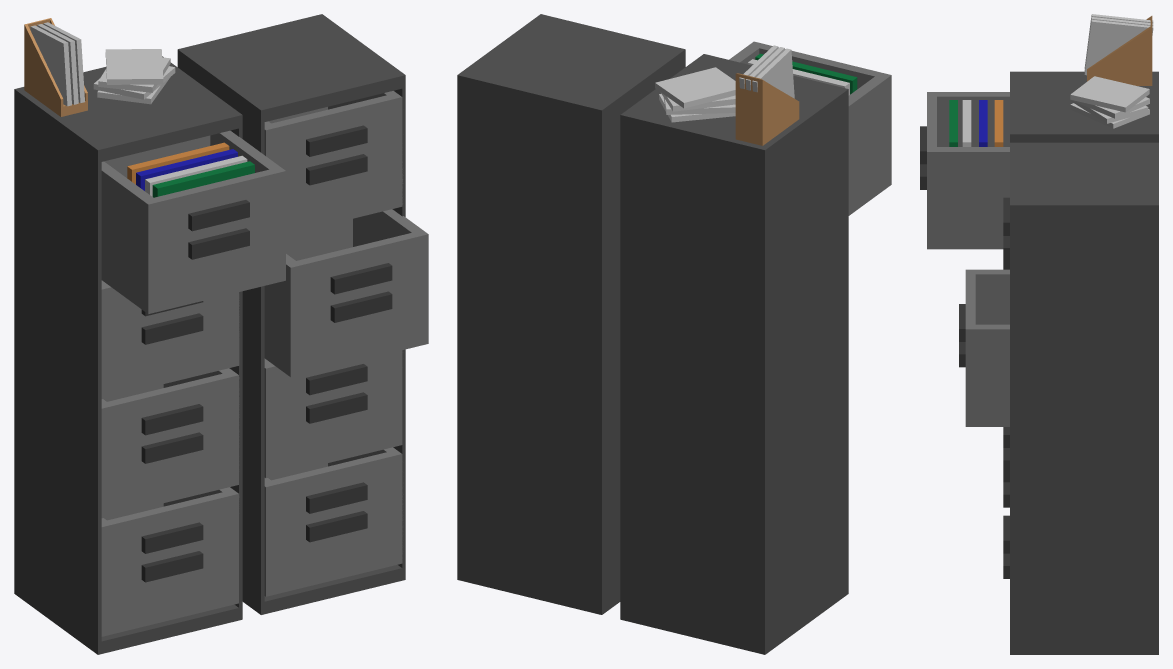
The model's file is lowpoly_cabinets.glb.
3 views of the same model, side by side, from view 1: azimuth 30°, elevation 25°; view 2: azimuth 150°, elevation 25°; view 3: azimuth 270°, elevation 25° (orthographic). The views are drawn at different scales.
Parts seen in each view (by area): view 1: Drawers2, Drawer.009, Drawers, Drawer.003, Drawer.005, Drawer.007, Drawer.006, Drawer.002, Drawer.004, Drawer.008, Folder, Paper; view 2: Drawers2, Drawers, Drawer.009, Folder, Paper; view 3: Drawers, Drawer.009, Drawer.003, Drawers2, Folder, Paper, Drawer.002, Drawer.005.
Boxes of the visible parts, left/top/right/bottom form: Drawers2: left=14, top=56, right=242, bottom=654; Drawer.009: left=101, top=130, right=285, bottom=313; Drawers: left=177, top=14, right=405, bottom=614; Drawer.003: left=264, top=209, right=428, bottom=377; Drawer.005: left=264, top=447, right=403, bottom=596; Drawer.007: left=101, top=368, right=239, bottom=518; Drawer.006: left=101, top=487, right=239, bottom=636; Drawer.002: left=264, top=91, right=403, bottom=234; Drawer.004: left=264, top=350, right=402, bottom=477; Drawer.008: left=101, top=280, right=239, bottom=398; Folder: left=24, top=18, right=87, bottom=116; Paper: left=93, top=49, right=175, bottom=104; Drawers2: left=620, top=54, right=848, bottom=654; Drawers: left=457, top=14, right=685, bottom=614; Drawer.009: left=729, top=41, right=891, bottom=215; Folder: left=735, top=45, right=799, bottom=145; Paper: left=655, top=67, right=735, bottom=122; Drawers: left=1010, top=142, right=1158, bottom=654; Drawer.009: left=920, top=92, right=1009, bottom=249; Drawer.003: left=959, top=269, right=1009, bottom=426; Drawers2: left=1010, top=71, right=1158, bottom=142; Folder: left=1084, top=14, right=1153, bottom=85; Paper: left=1070, top=76, right=1149, bottom=128; Drawer.002: left=1003, top=197, right=1009, bottom=261; Drawer.005: left=1003, top=515, right=1009, bottom=578.
Bounding box in the file's own units: 0.9989 × 1.78 × 0.7536.
Materials: 1 (1 with a texture image).
